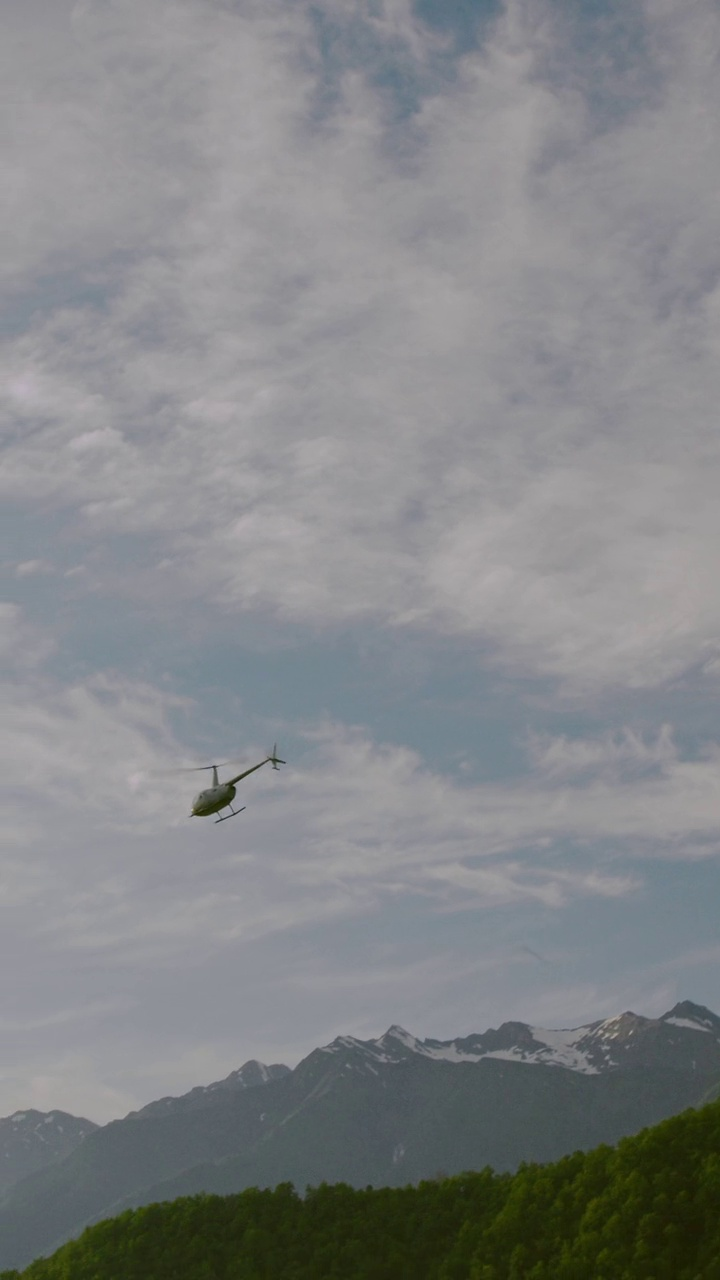heli: (169, 742, 287, 827)
